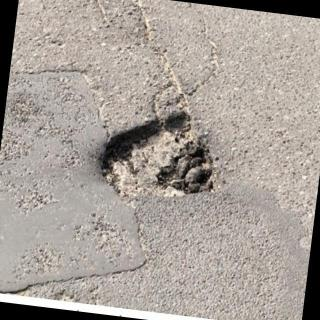pothole: (100, 111, 215, 204)
